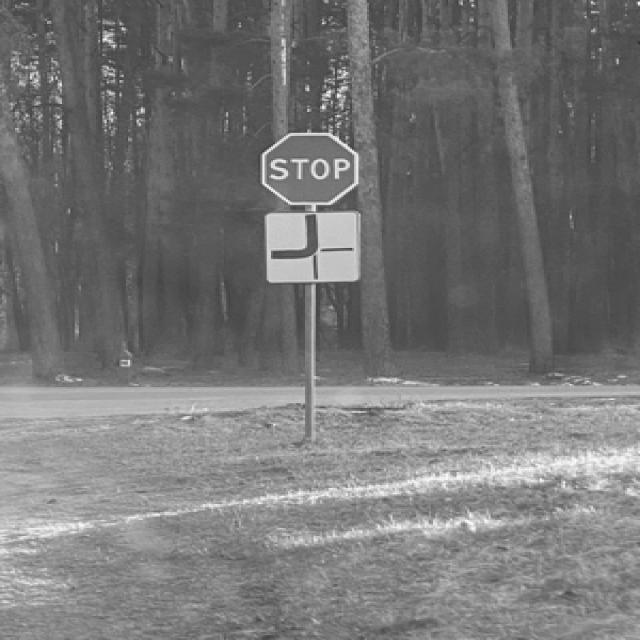Stop-signs: (262, 133, 358, 205)
